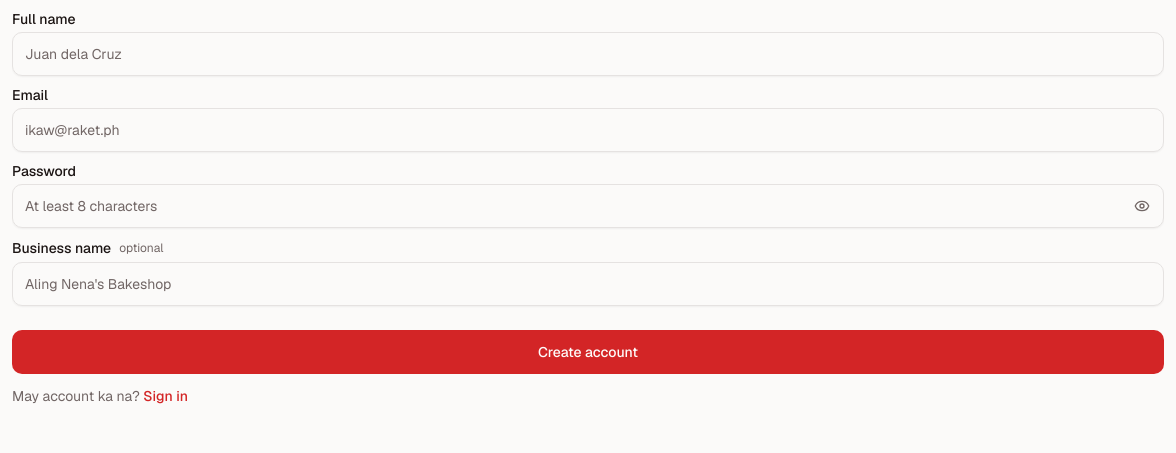
Test: RegisterForm › shows a strength hint once a password is typed
The width and height of the screenshot is (1176, 453).
Step 1. Type "abc" into the password field labelled "Password" → (588, 206), box [12,184,1164,228]
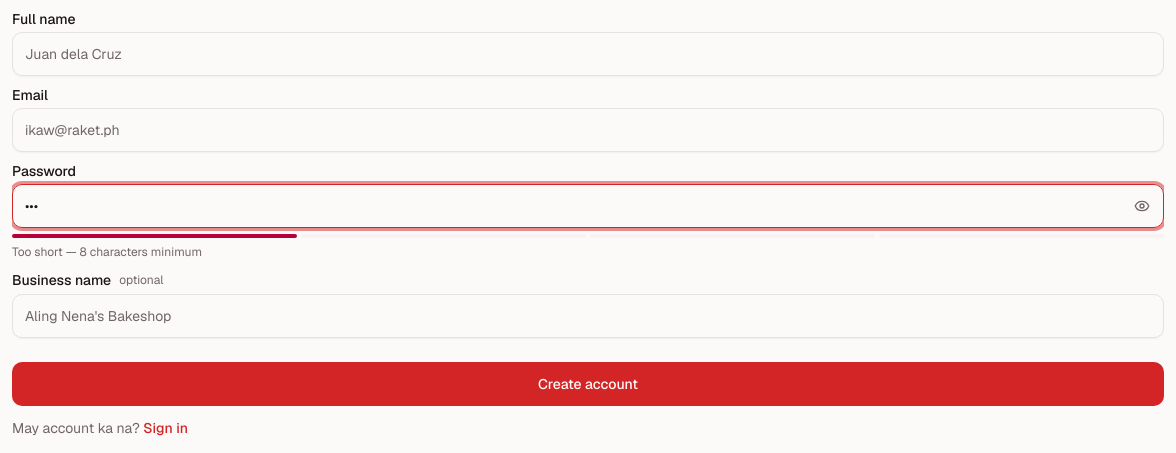
Check: the text "Too short — 8 characters minimum" is shown, box [12,244,202,260]
